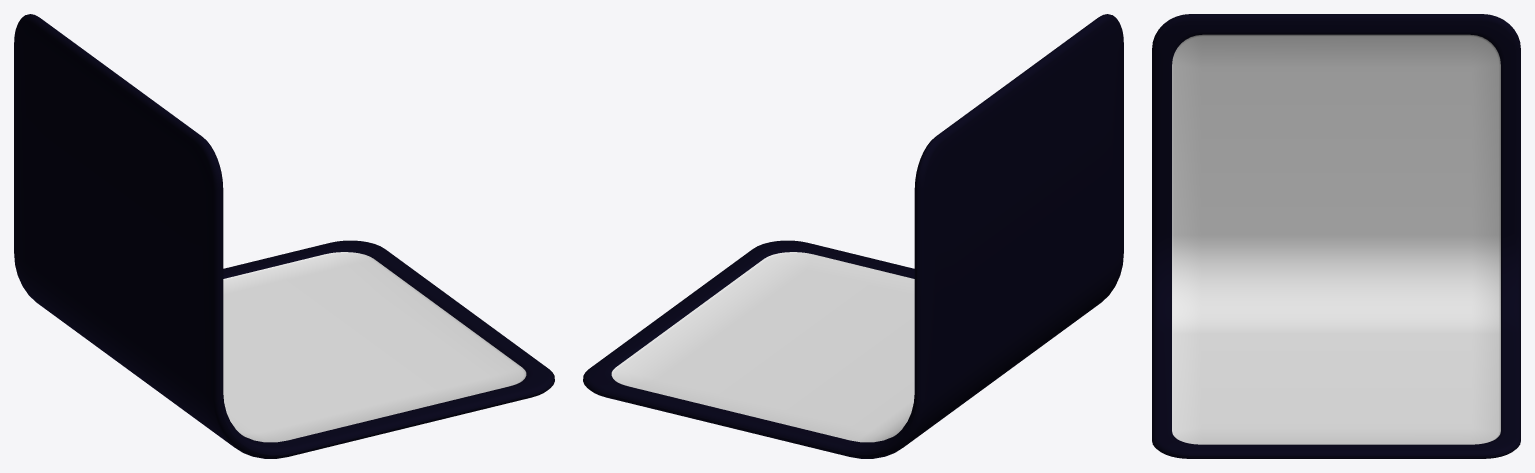
File: PreviewFrame.fbx
3 views of the same model, side by side, from view 1: azimuth 30°, elevation 25°; view 2: azimuth 150°, elevation 25°; view 3: azimuth 270°, elevation 25° (orthographic). The views are drawn at different scales.
Parts seen in each view (by area): view 1: Scene; view 2: Scene; view 3: Scene.
Part boxes in pixels (<box>): Scene: <box>14,14,554,458</box>; Scene: <box>583,14,1123,458</box>; Scene: <box>1152,14,1520,458</box>.
Bounding box in the file's own units: 200 × 175 × 200.
